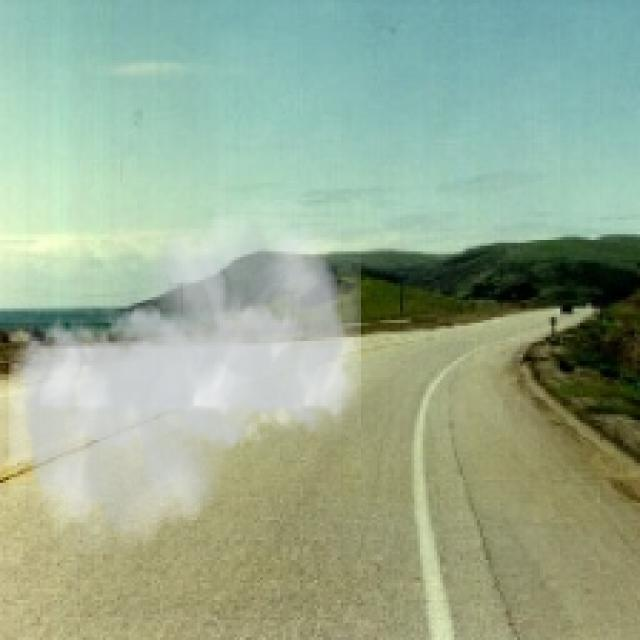Smoke: (8, 200, 360, 554)
